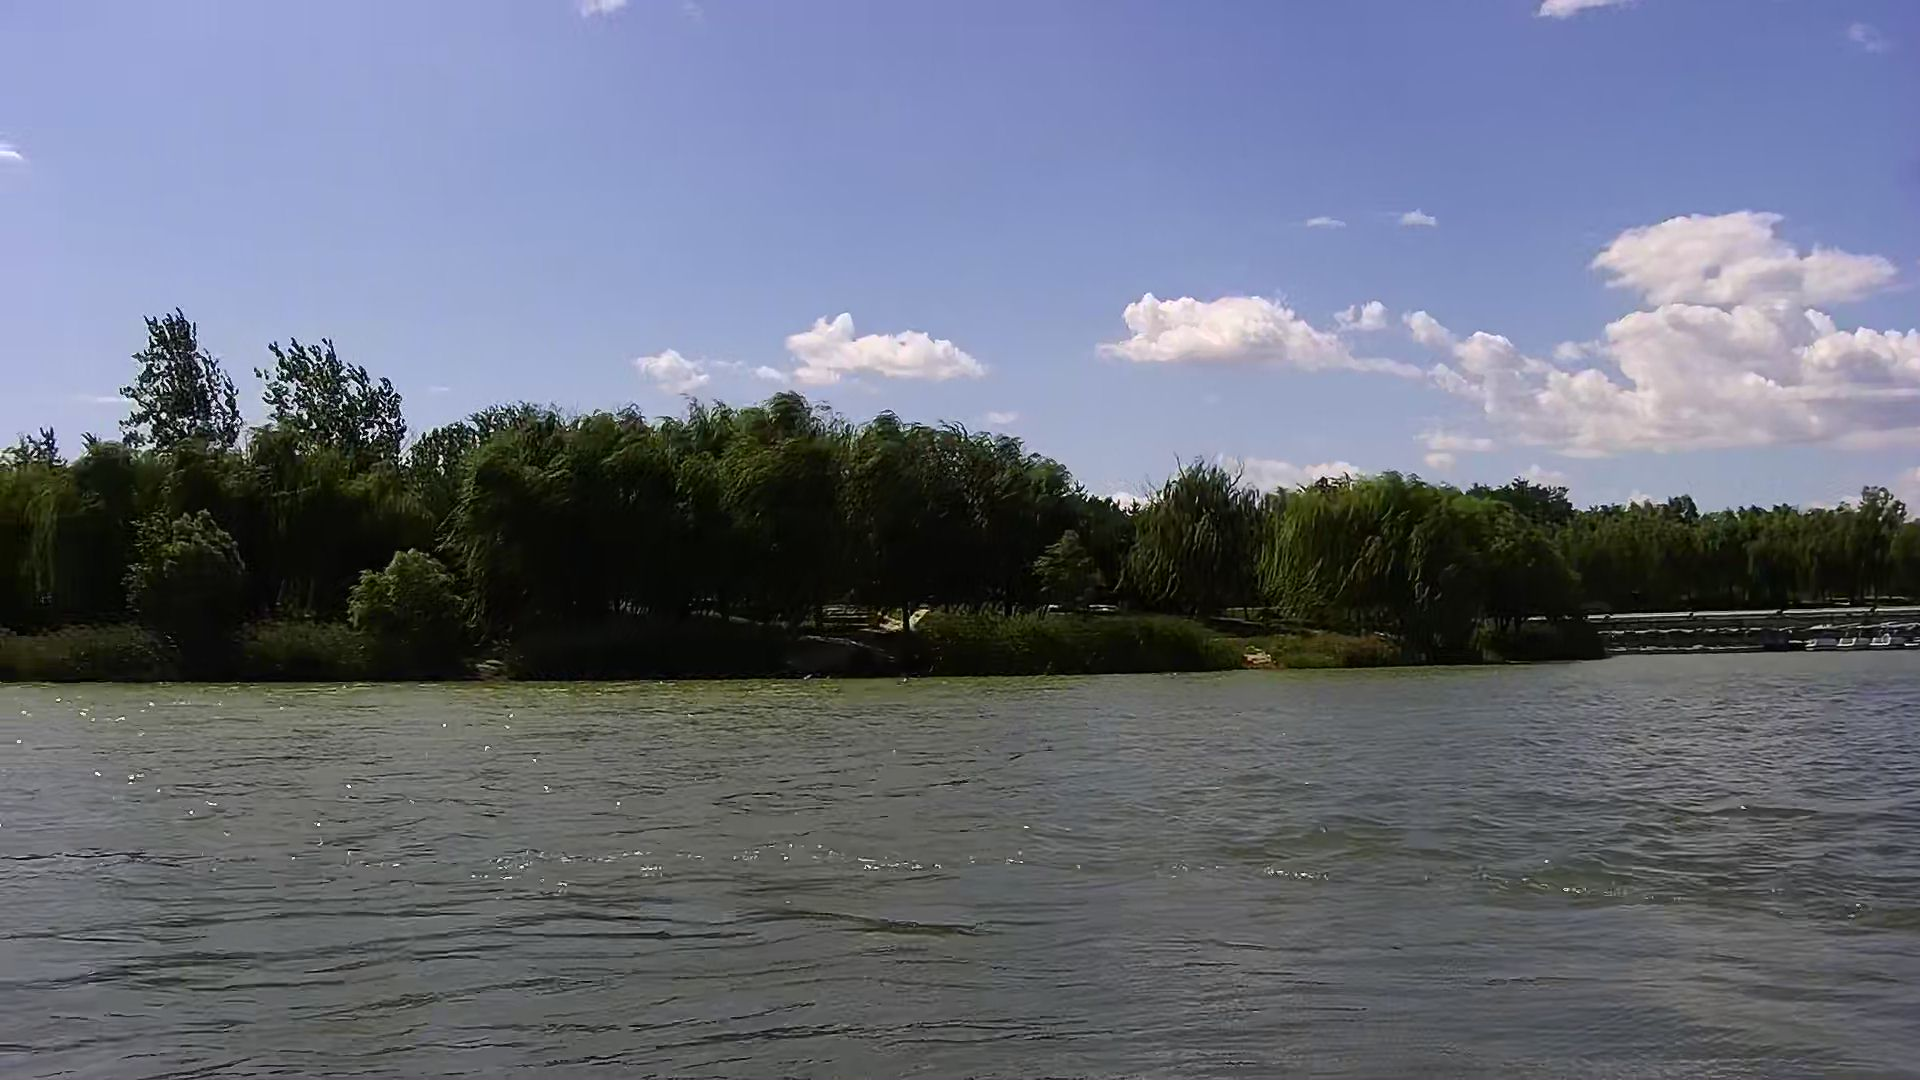boat: (1867, 625, 1907, 655), (1836, 624, 1871, 655), (1800, 626, 1834, 655)
harbor: (1604, 607, 1920, 651)
